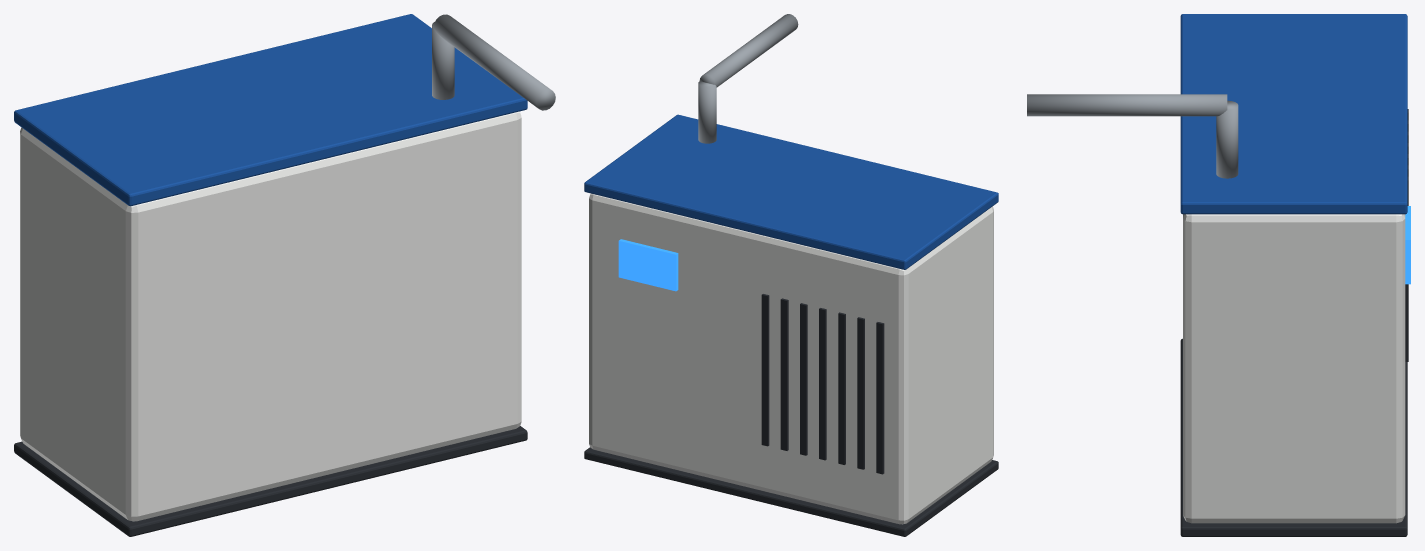
Rendered from aux_unit.glb.
3 renders of one model, left to right at view 1: azimuth 30°, elevation 25°; view 2: azimuth 150°, elevation 25°; view 3: azimuth 270°, elevation 25°, orthographic. The views are drawn at different scales.
Parts seen in each view (by area): view 1: aux_unit; view 2: aux_unit; view 3: aux_unit.
Boxes of the visible parts, x1,y1,x2,y2 form: aux_unit: (14, 14, 555, 536); aux_unit: (584, 14, 998, 536); aux_unit: (1027, 14, 1410, 536).
Bounding box in the file's own units: 2.02 × 2.05 × 1.73.
